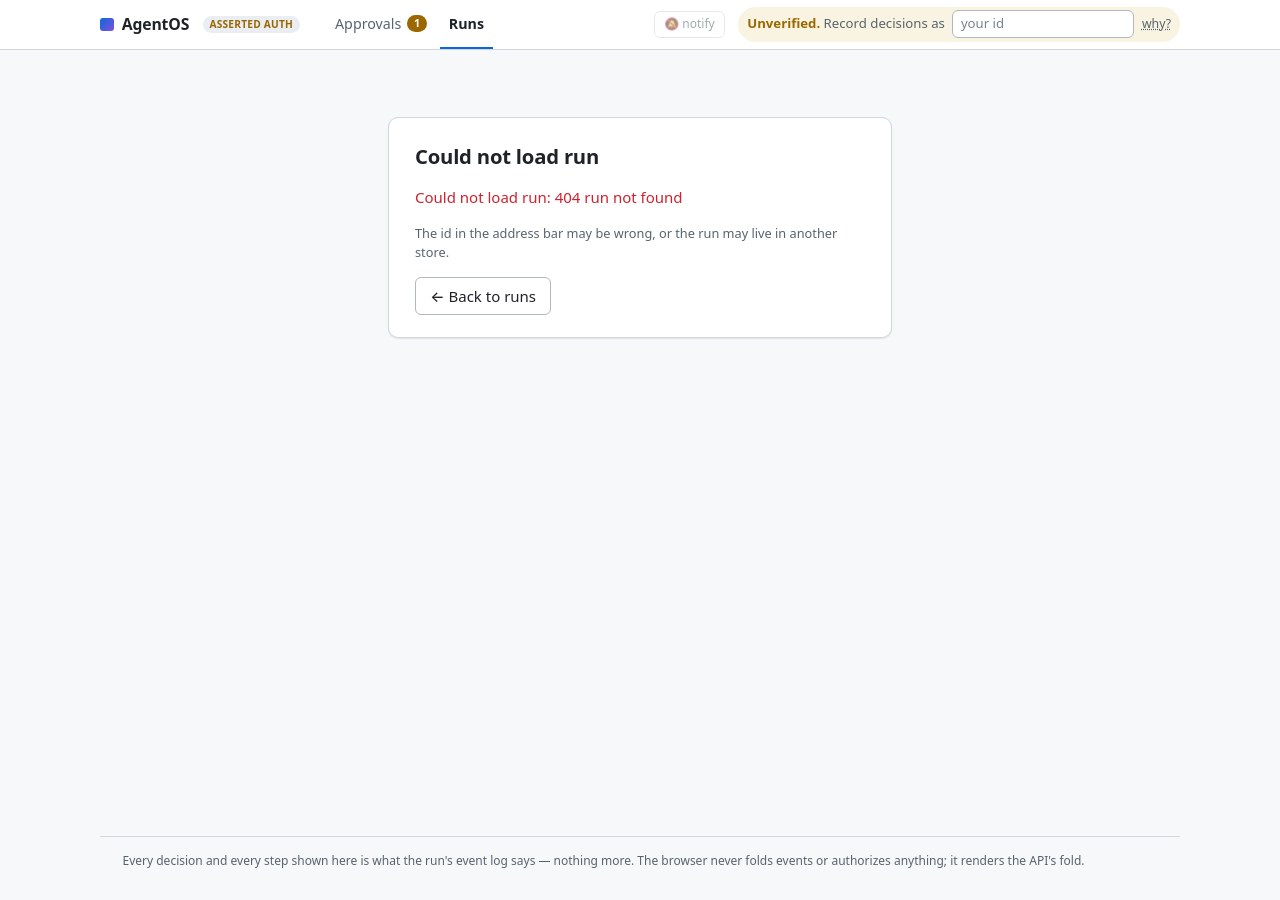
Test: run load failure › shows the API's error in a card with a link back to the runs list
The width and height of the screenshot is (1280, 900).
Expected: the message "Could not load run: 404 run not found" is shown, [415,187,683,207]
Click the link "← Back to runs".
click(483, 296)  # box [415,277,551,315]
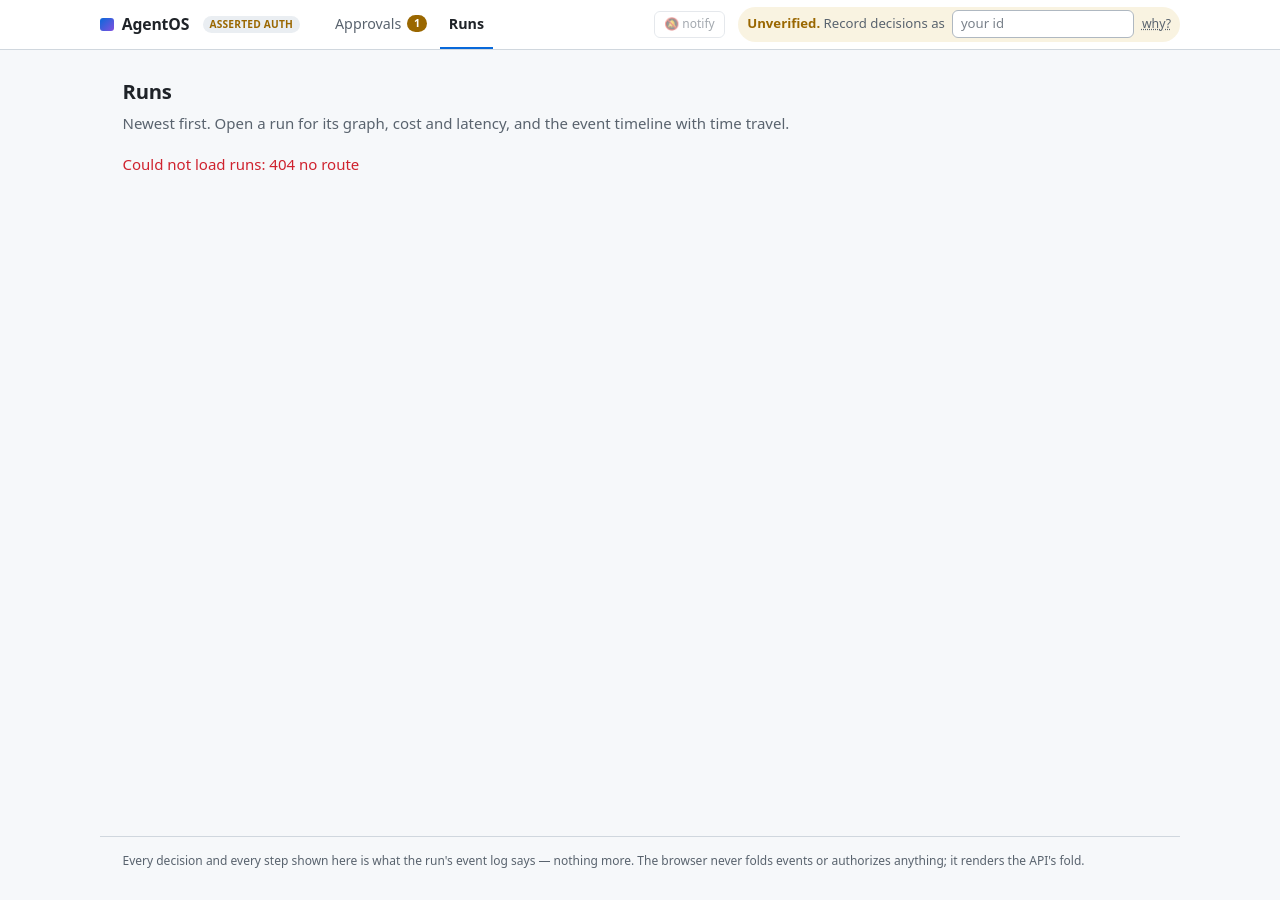
Expected: the heading "Runs" is shown, [122,77,172,105]
